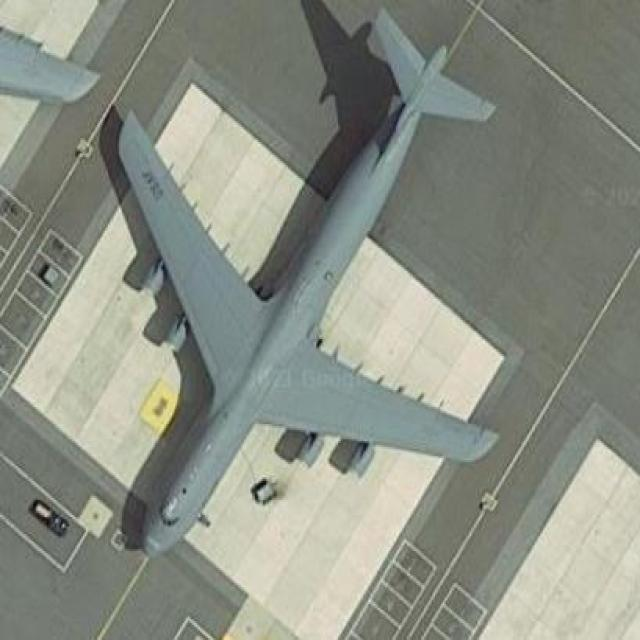C-5_TopDown: (106, 0, 497, 562)
